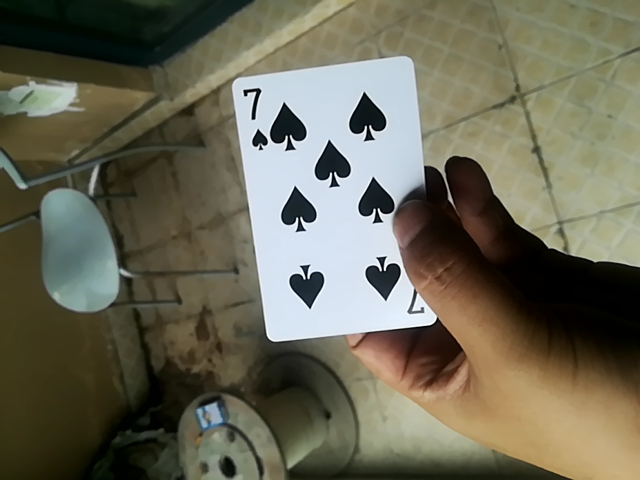ht 7: (232, 47, 429, 349)
